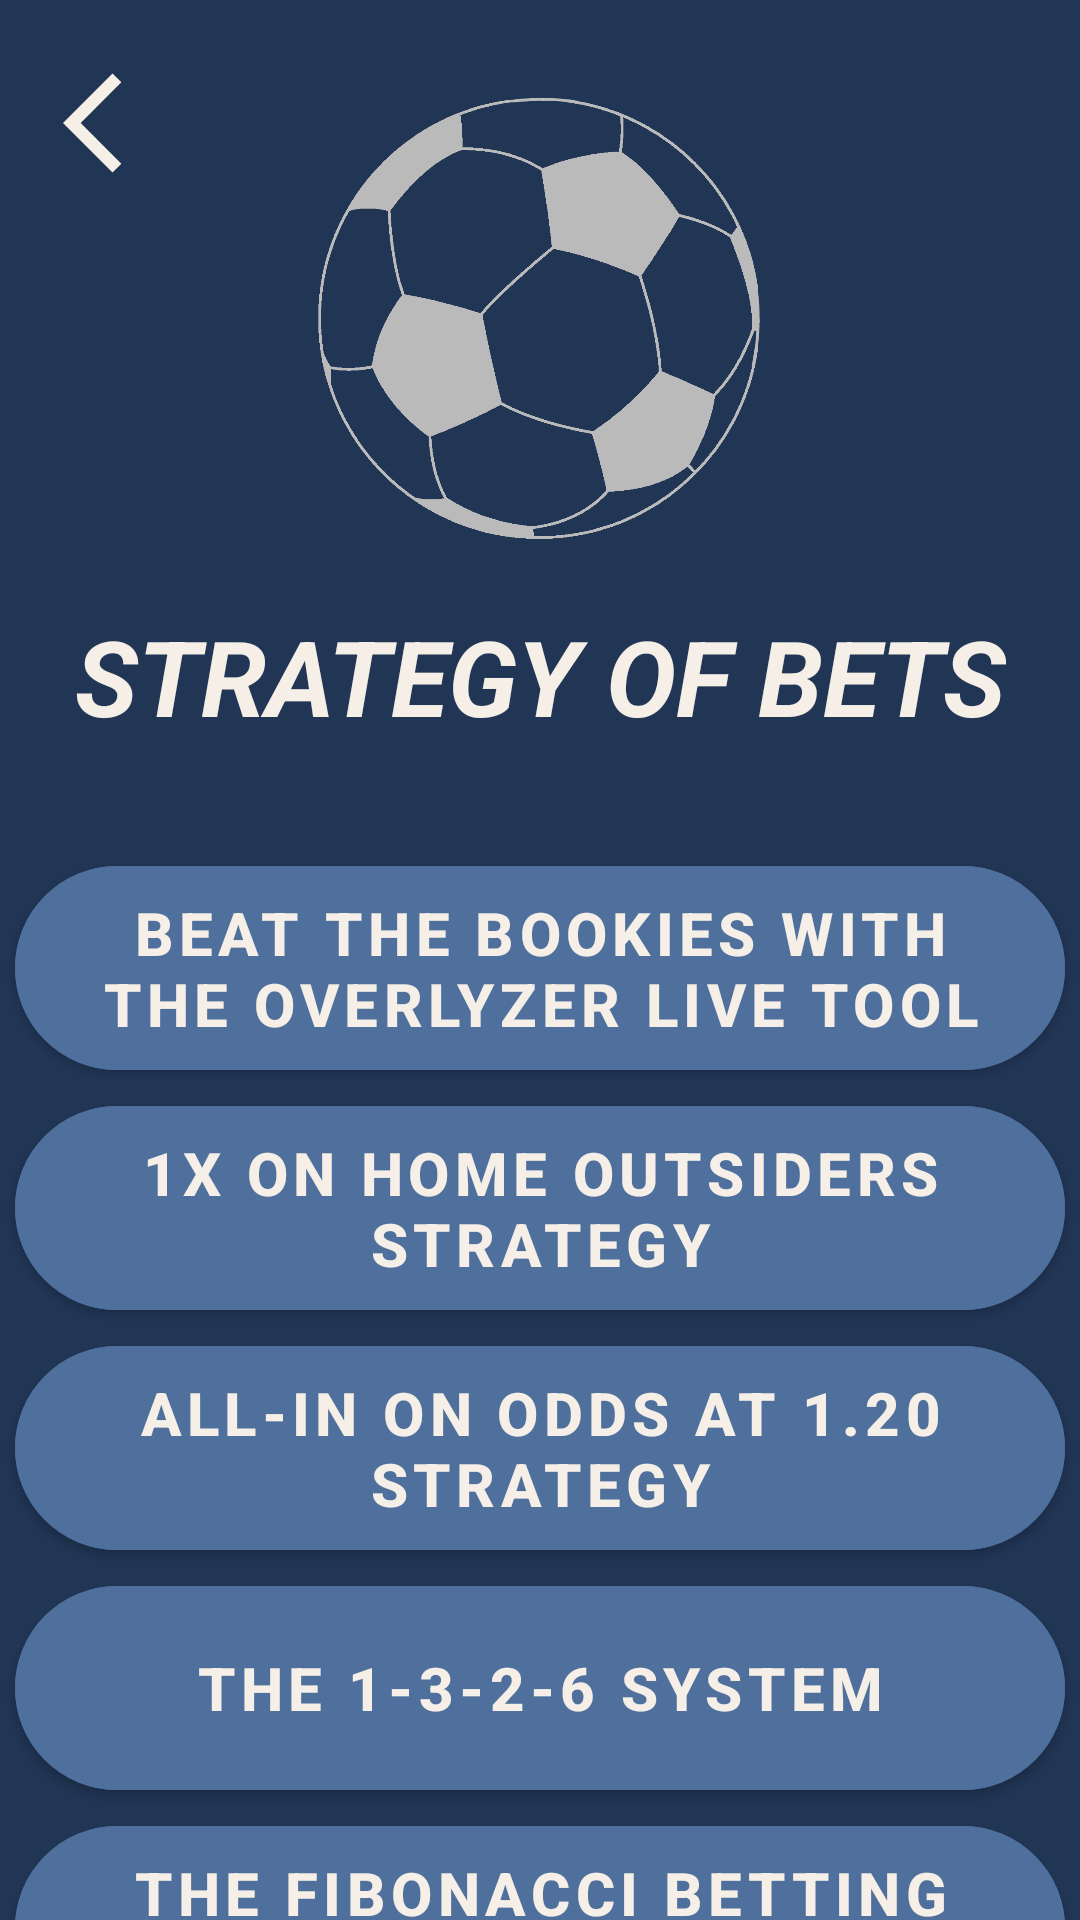

Where to tap for icons on this 1080×1920 app screen, as point (x, y):
arrow back: point (92, 123)
